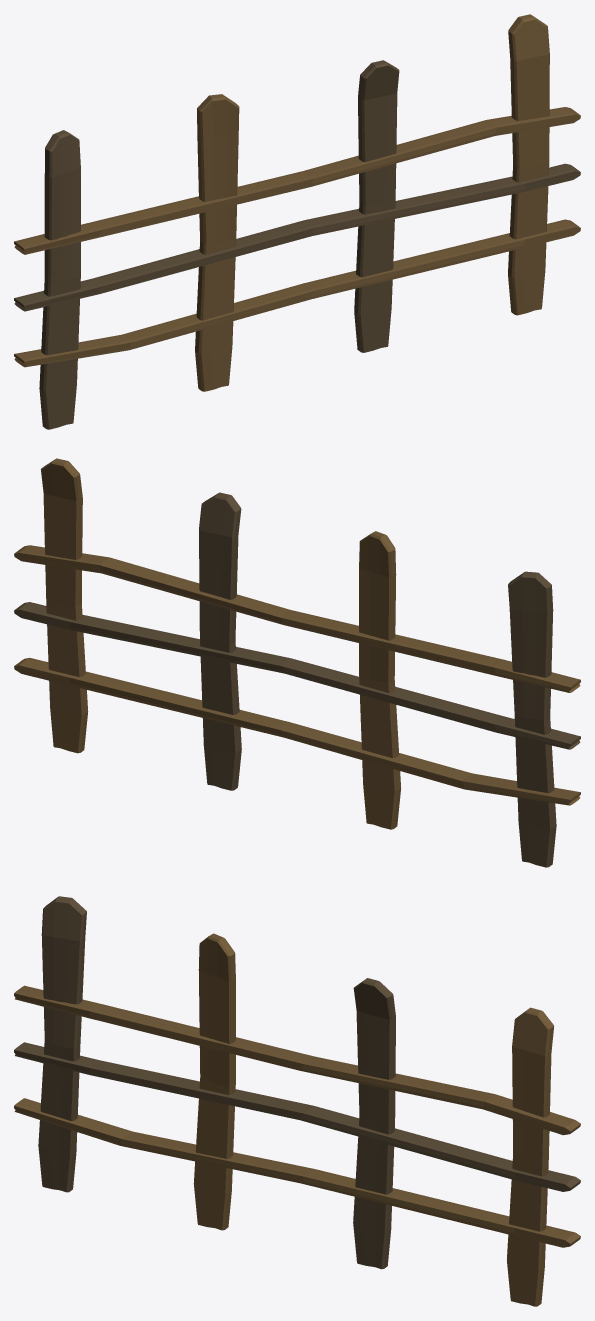
File: Fence.fbx
3 renders of one model, top to bottom at view 1: azimuth 30°, elevation 25°; view 2: azimuth 150°, elevation 25°; view 3: azimuth 330°, elevation 25°, orthographic.
Visible parts, largest first — view 1: Cube.005; view 2: Cube.005; view 3: Cube.005.
Boxes of the visible parts, x1,y1,x2,y2 form: Cube.005: [14, 14, 580, 429]; Cube.005: [14, 458, 580, 867]; Cube.005: [14, 896, 580, 1306].
Size of the model in its own units: 292 by 145 by 12.88.
